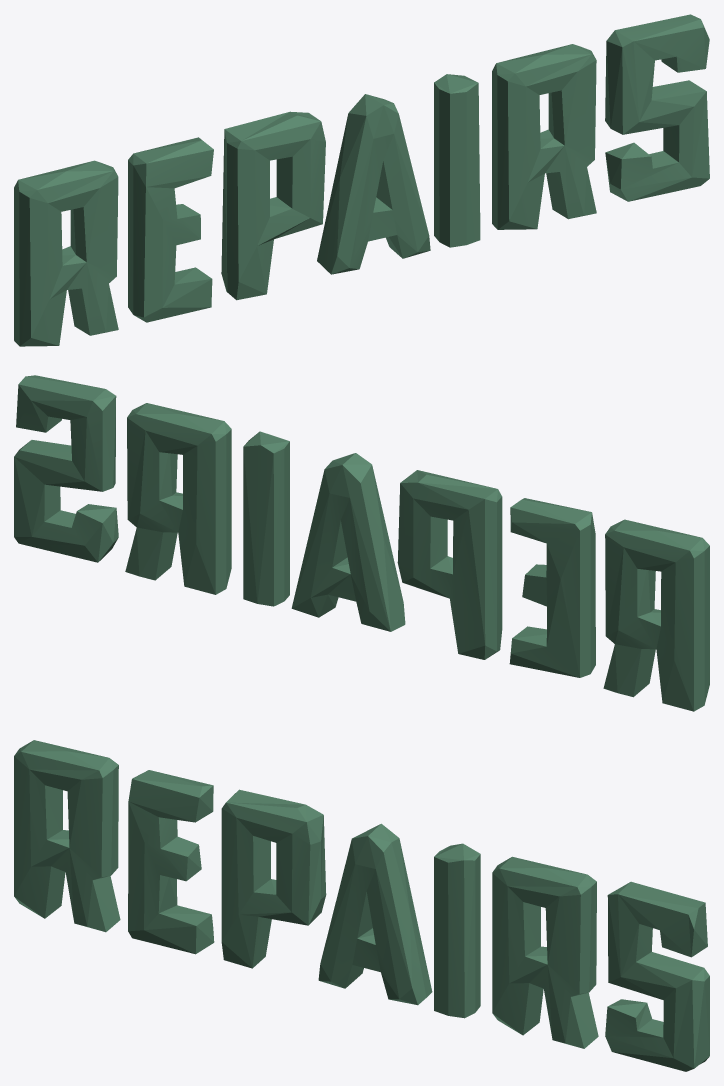
Rendered from SM_Prop_Sign_Repairs_01.obj.
3 renders of one model, top to bottom at view 1: azimuth 30°, elevation 25°; view 2: azimuth 150°, elevation 25°; view 3: azimuth 330°, elevation 25°, orthographic.
Visible parts, largest first — view 1: SM_Prop_Sign_Repairs_01_0; view 2: SM_Prop_Sign_Repairs_01_0; view 3: SM_Prop_Sign_Repairs_01_0.
Part boxes in pixels (bbox=[...]): SM_Prop_Sign_Repairs_01_0: bbox=[14, 14, 709, 346]; SM_Prop_Sign_Repairs_01_0: bbox=[14, 375, 709, 711]; SM_Prop_Sign_Repairs_01_0: bbox=[14, 740, 709, 1071].
Bounding box in the file's own units: 3.64 × 0.8414 × 0.1726.
1 material, 1 textured.
